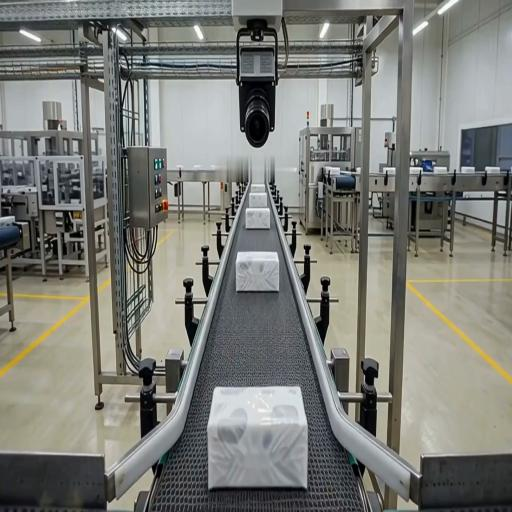good: (208, 387, 307, 489), (236, 252, 279, 292), (246, 208, 270, 229), (249, 192, 267, 207), (251, 184, 265, 192)
